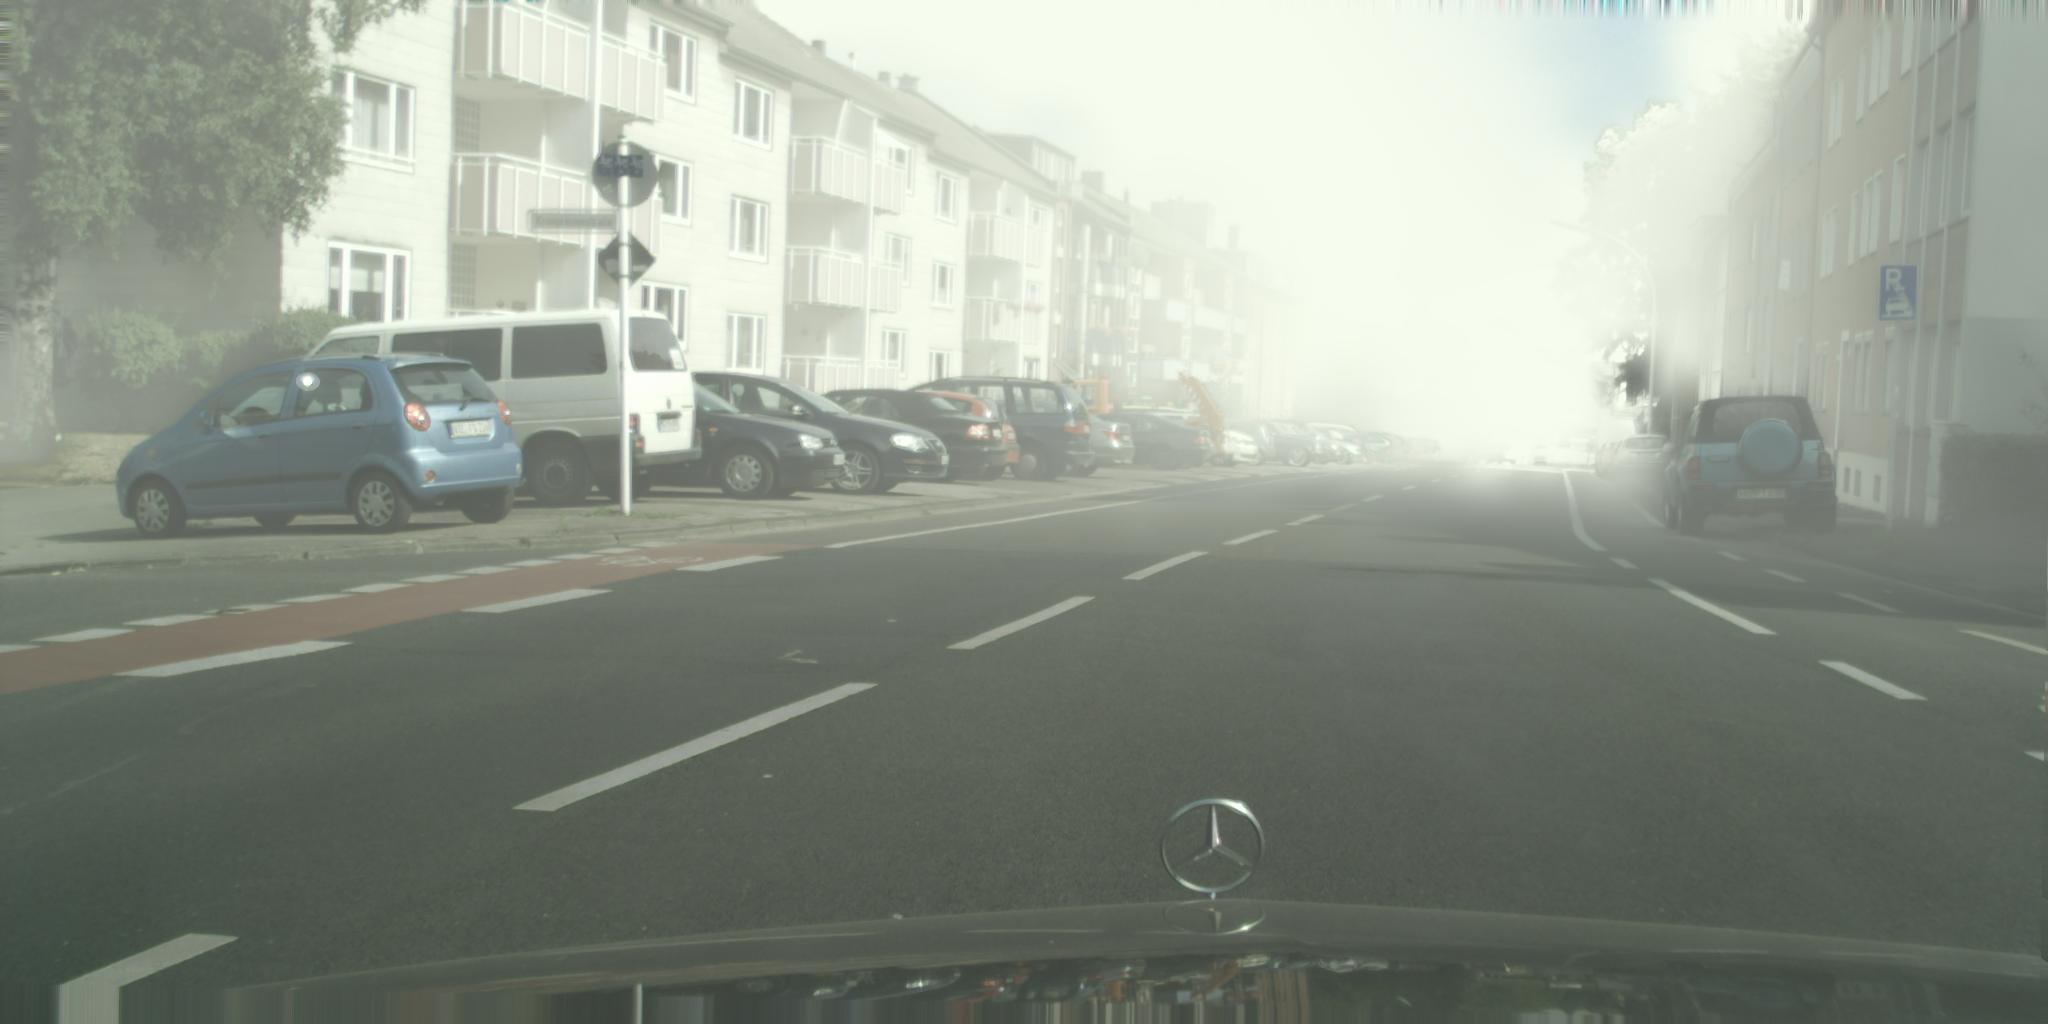car: (293, 310, 703, 509), (114, 353, 525, 541), (671, 370, 950, 496), (579, 377, 846, 502), (1663, 396, 1839, 536), (901, 376, 1096, 483), (818, 389, 1008, 485), (905, 391, 1021, 482), (1095, 413, 1216, 472), (1048, 406, 1138, 478), (1472, 443, 1505, 466), (1485, 445, 1519, 465), (1536, 438, 1549, 451), (1558, 438, 1573, 449), (1533, 456, 1548, 468)
truck: (1054, 360, 1228, 460)
